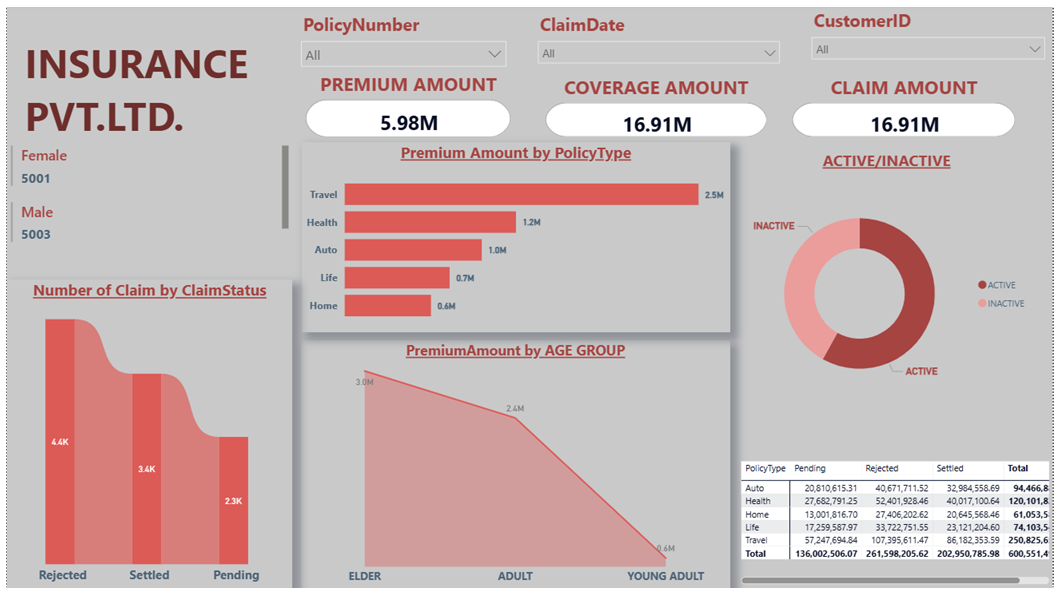

What the dashboard file says about the page in this screenshot:
{"tool":"powerbi","page":{"name":"DASHBOARD","canvas":[1280,720],"ordinal":0},"visuals":[{"type":"slicer","fields":{"Values":["InsuranceData.PolicyNumber"]},"box":[349.7,4.9,271.5,77],"z":0},{"type":"slicer","fields":{"Values":["InsuranceData.ClaimDate"]},"box":[639.5,4.9,316.7,70.9],"z":1000},{"type":"slicer","fields":{"Values":["InsuranceData.CustomerID"]},"box":[974.3,0,306,90.6],"z":2000},{"type":"textbox","box":[17.1,15.9,308.2,162.6],"z":3000},{"type":"cardVisual","title":"PREMIUM AMOUNT","fields":{"Data":["Sum(InsuranceData.PremiumAmount)"]},"box":[360.7,81.9,261.7,86.8],"z":4000},{"type":"cardVisual","title":"CLAIM AMOUNT","fields":{"Data":["Sum(InsuranceData.ClaimAmount)"]},"box":[956.3,85.6,283.7,83.2],"z":5000},{"type":"cardVisual","title":"COVERAGE AMOUNT","fields":{"Data":["Sum(InsuranceData.ClaimAmount)"]},"box":[654.2,85.6,281.3,83.2],"z":6000},{"type":"multiRowCard","fields":{"Values":["InsuranceData.Gender","CountNonNull(InsuranceData.Gender)"]},"box":[0,168.8,349.7,128.4],"z":7000},{"type":"ribbonChart","title":"Number of Claim by ClaimStatus","fields":{"Category":["InsuranceData.ClaimStatus"],"Y":["CountNonNull(InsuranceData.ClaimStatus)"]},"box":[0,337.5,349.7,382.7],"z":8000},{"type":"barChart","title":"Premium Amount by PolicyType","fields":{"Category":["InsuranceData.PolicyType"],"Y":["Sum(InsuranceData.PremiumAmount)"]},"box":[360.7,168.8,524.6,233.6],"z":9000},{"type":"lineChart","title":"PremiumAmount by AGE GROUP","fields":{"Category":["InsuranceData.AGE GROUP"],"Y":["Sum(InsuranceData.PremiumAmount)"]},"box":[359.5,412.1,525.8,308.2],"z":10000},{"type":"donutChart","title":" ACTIVE/INACTIVE ","fields":{"Category":["InsuranceData.ACTIVE/INACTIVE"],"Y":["CountNonNull(InsuranceData.ACTIVE/INACTIVE)"]},"box":[893.9,178.5,365.6,327.7],"z":11000},{"type":"pivotTable","fields":{"Rows":["InsuranceData.PolicyType"],"Values":["Sum(InsuranceData.CoverageAmount)"],"Columns":["InsuranceData.ClaimStatus"]},"box":[893.9,555.2,386.4,160.2],"z":12000}]}

Visuals, with their boxes in screenshot pixels (x1, y1, x2, y2), scaled from the page's 1280x720 canvas onto the 1057x600 screenshot:
slicer - InsuranceData.PolicyNumber: 289,4,513,68
slicer - InsuranceData.ClaimDate: 528,4,790,63
slicer - InsuranceData.CustomerID: 805,0,1056,76
textbox: 14,13,269,149
"PREMIUM AMOUNT" cardVisual: 298,68,514,141
"CLAIM AMOUNT" cardVisual: 790,71,1024,141
"COVERAGE AMOUNT" cardVisual: 540,71,773,141
multiRowCard - InsuranceData.Gender x CountNonNull(InsuranceData.Gender): 0,141,289,248
"Number of Claim by ClaimStatus" ribbonChart: 0,281,289,599
"Premium Amount by PolicyType" barChart: 298,141,731,335
"PremiumAmount by AGE GROUP" lineChart: 297,343,731,599
" ACTIVE/INACTIVE " donutChart: 738,149,1040,422
pivotTable - InsuranceData.PolicyType x Sum(InsuranceData.CoverageAmount): 738,463,1056,596
